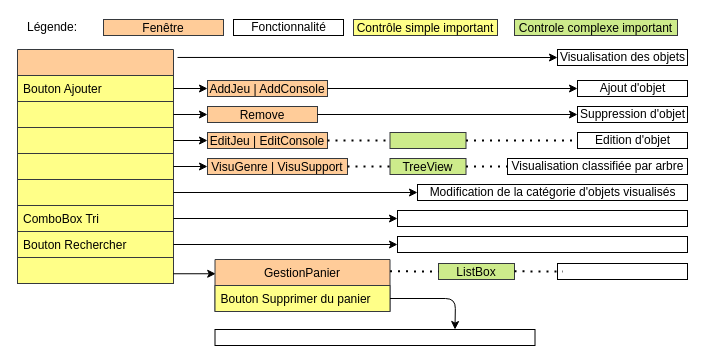
Some shapes in this 705 by 363 pixel diagram are drawn without their labels. Here are the shapes that lost their labels. From the top down, the box of each, then its label:
(16, 100, 174, 128): Bouton Supprimer
(16, 126, 174, 154): Bouton Modifier
(389, 132, 466, 148): DataGridView
(16, 152, 174, 180): Bouton Visualiser
(16, 48, 174, 284): Main
(16, 178, 174, 206): Bouton Catégorie
(396, 210, 688, 226): Modification de la classification des objets visualisés
(396, 236, 688, 252): affichage des objets selon un critère spécifique
(16, 256, 174, 284): Bouton Ajouter au panier
(556, 262, 688, 280): Visualisation du panier
(214, 328, 535, 346): Suppresion d'un objet du panier et renvoi dans le catalogue
